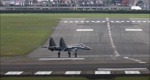maybay_muctieu: (46, 39, 90, 58)
